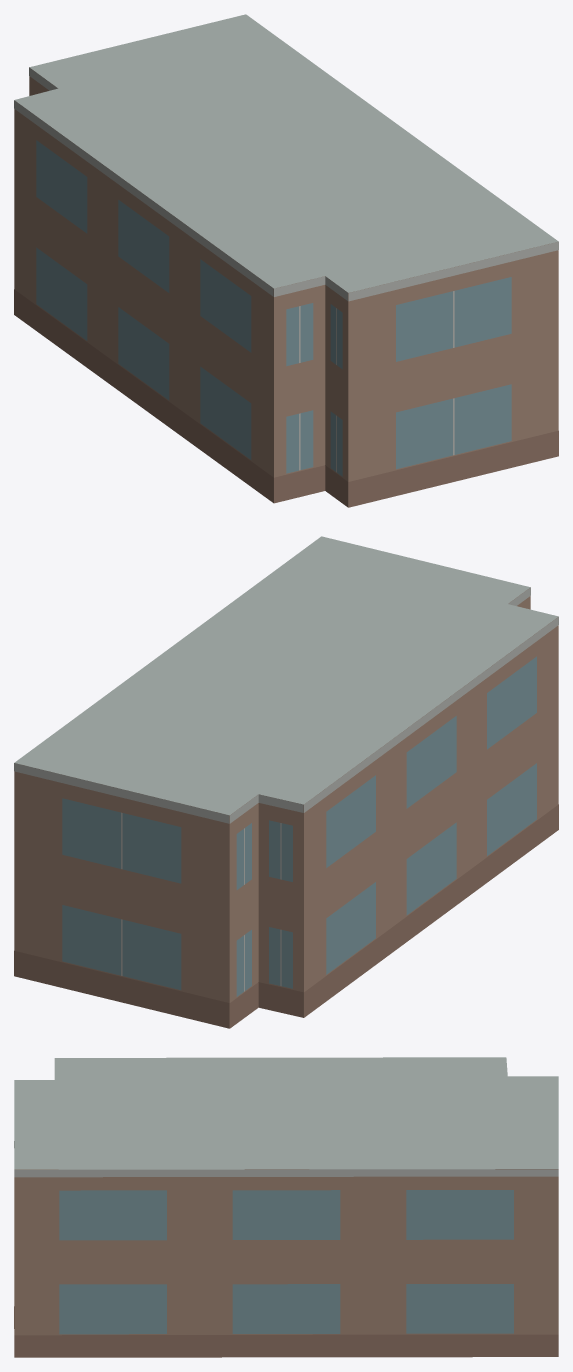
The model's file is survey-upis-33035098.glb.
3 views of the same model, one above another, from view 1: azimuth 30°, elevation 25°; view 2: azimuth 150°, elevation 25°; view 3: azimuth 270°, elevation 25° (orthographic). The views are drawn at different scales.
Visible parts, largest first — view 1: survey-upis-33035098.tmp; view 2: survey-upis-33035098.tmp; view 3: survey-upis-33035098.tmp.
Part boxes in pixels (left/top/right/bottom): survey-upis-33035098.tmp: left=14, top=14, right=558, bottom=507; survey-upis-33035098.tmp: left=14, top=536, right=558, bottom=1028; survey-upis-33035098.tmp: left=14, top=1057, right=558, bottom=1357.
Bounding box in the file's own units: 7.84 × 6.1 × 16.04.
